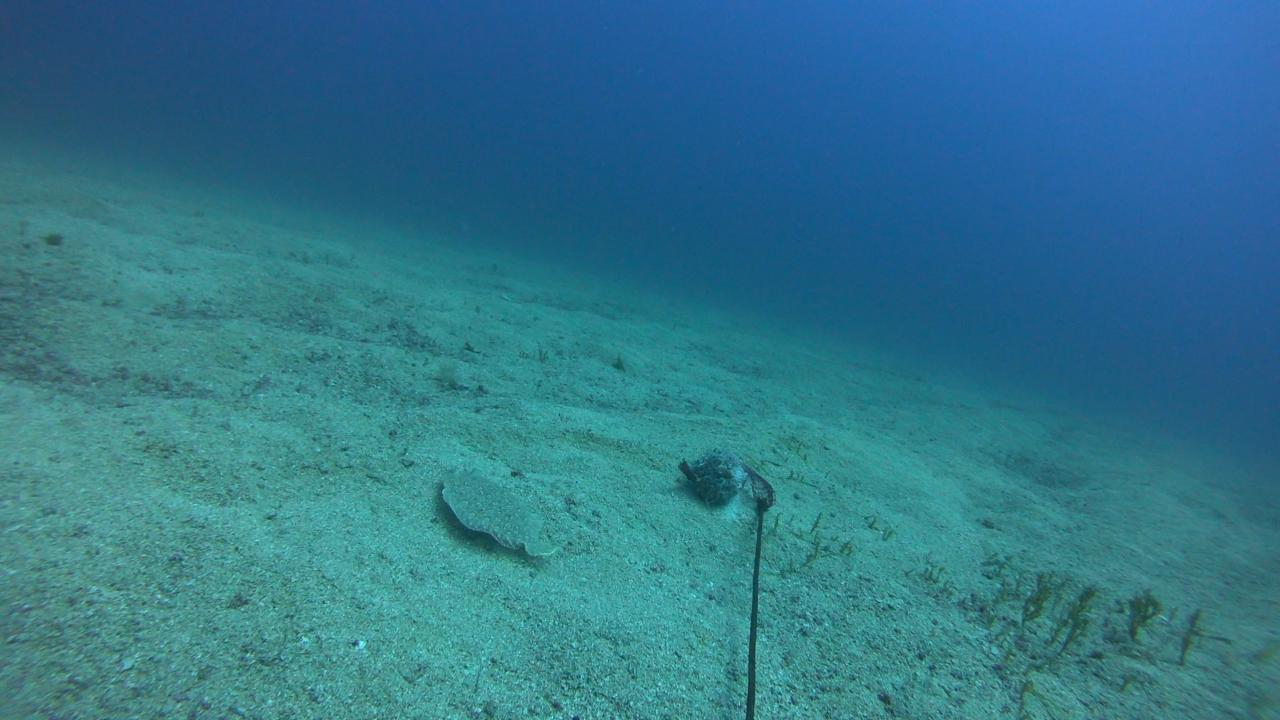bothus: (434, 457, 570, 565)
